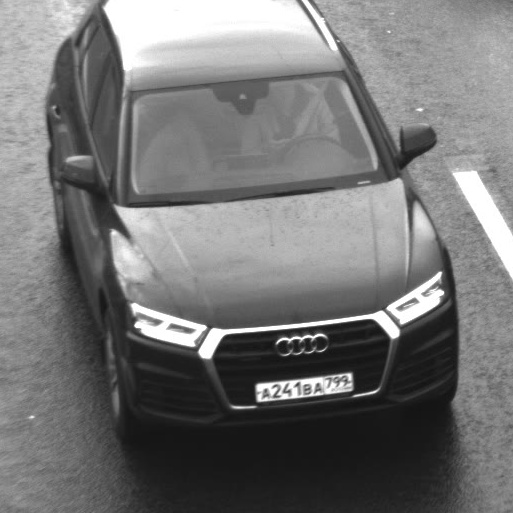plate: (245, 362, 363, 410)
